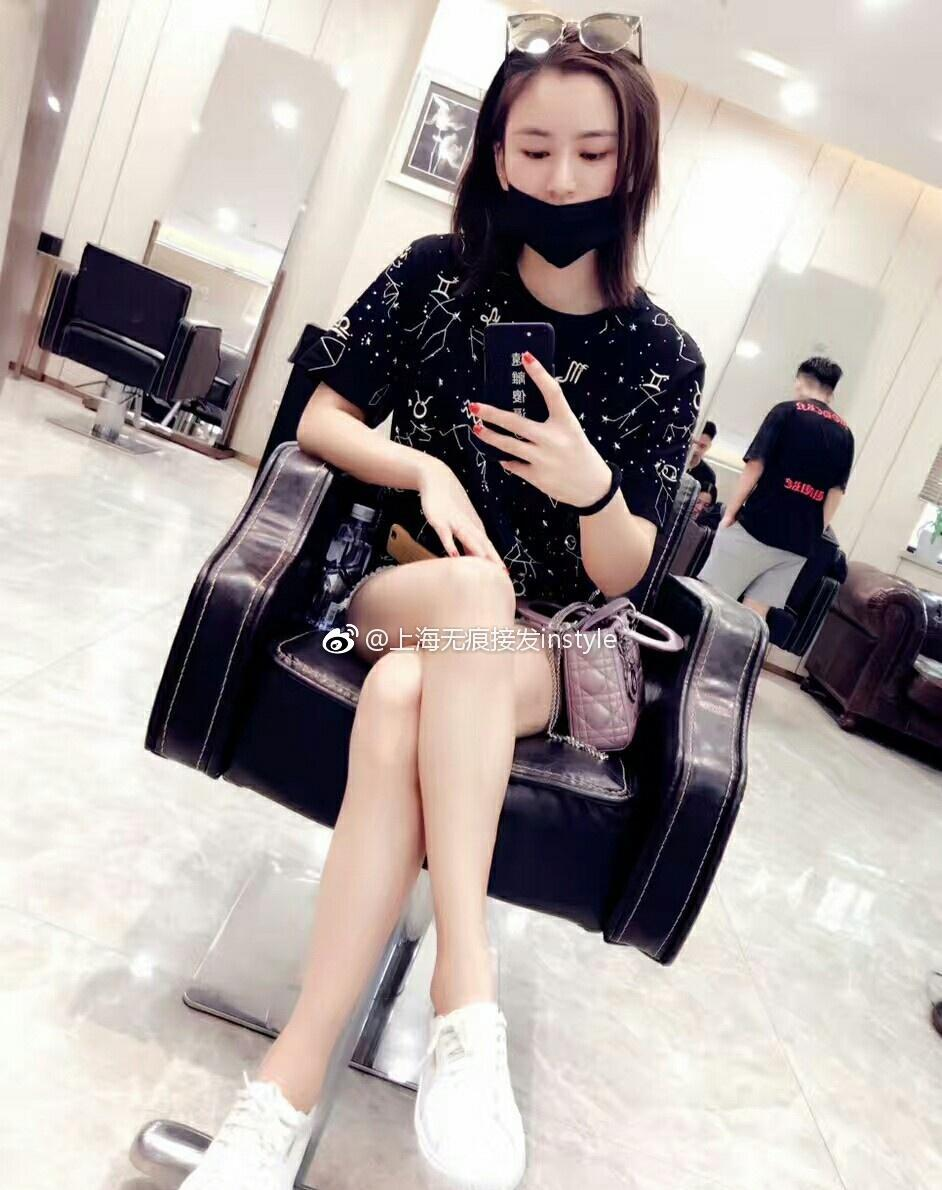WRONG: (495, 116, 634, 255)
